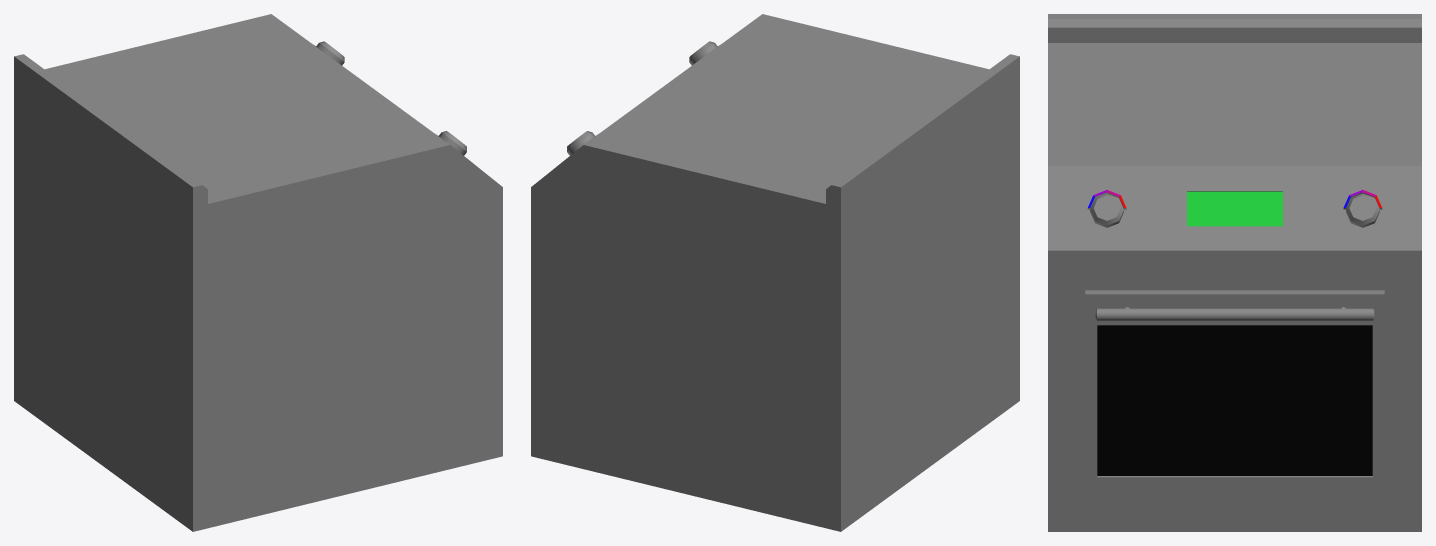
The model's file is oven.fbx.
3 views of the same model, side by side, from view 1: azimuth 30°, elevation 25°; view 2: azimuth 150°, elevation 25°; view 3: azimuth 270°, elevation 25° (orthographic). The views are drawn at different scales.
Parts seen in each view (by area): view 1: Cube, Circle.001; view 2: Cube, Circle.001; view 3: Cube, Cube.002, Cube.001, Circle, Cube.003, Circle.001.
Boxes of the visible parts, x1,y1,x2,y2 form: Cube: (14, 14, 502, 531); Circle.001: (316, 41, 466, 155); Cube: (531, 14, 1019, 531); Circle.001: (567, 41, 717, 155); Cube: (1048, 14, 1421, 531); Cube.002: (1097, 325, 1372, 475); Cube.001: (1085, 290, 1384, 485); Circle: (1095, 307, 1374, 320); Cube.003: (1187, 191, 1282, 226); Circle.001: (1090, 194, 1379, 227).
Bounding box in the file's own units: 214 × 213 × 200.
